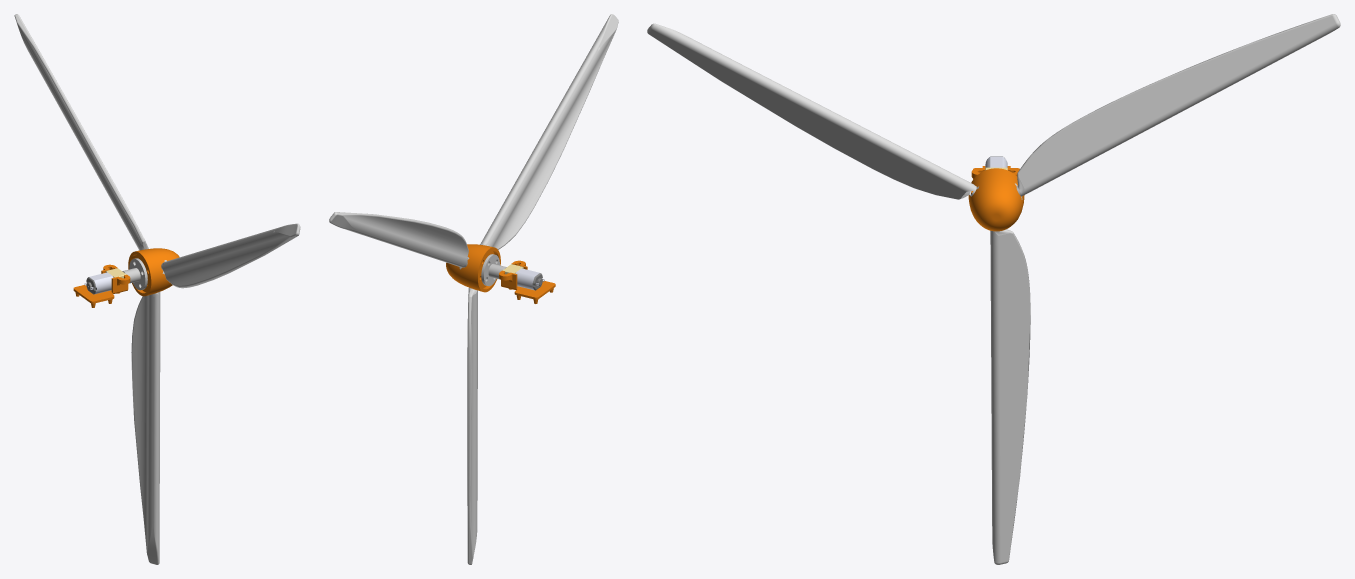
Rendered from turbineBladeAssembly.glb.
3 views of the same model, side by side, from view 1: azimuth 30°, elevation 25°; view 2: azimuth 150°, elevation 25°; view 3: azimuth 270°, elevation 25° (orthographic). The views are drawn at different scales.
Visible parts, largest first — view 1: Turbine-Blade-Assembly, 5:1 Micro Metal Gearmotor LP 6V5:1 Micro Metal Gearmotor LP, FlangeConnector3mmDShaft; view 2: Turbine-Blade-Assembly, 5:1 Micro Metal Gearmotor LP 6V5:1 Micro Metal Gearmotor LP, FlangeConnector3mmDShaft; view 3: Turbine-Blade-Assembly.
Boxes of the visible parts, box(x1,y1,x2,y2) form: Turbine-Blade-Assembly: box(14, 14, 300, 564); 5:1 Micro Metal Gearmotor LP 6V5:1 Micro Metal Gearmotor LP: box(73, 264, 130, 307); FlangeConnector3mmDShaft: box(122, 258, 147, 290); Turbine-Blade-Assembly: box(329, 14, 618, 564); 5:1 Micro Metal Gearmotor LP 6V5:1 Micro Metal Gearmotor LP: box(499, 260, 555, 303); FlangeConnector3mmDShaft: box(481, 254, 506, 286); Turbine-Blade-Assembly: box(647, 14, 1340, 564).
Size of the model in its own units: 7.33 by 32.38 by 37.05.
